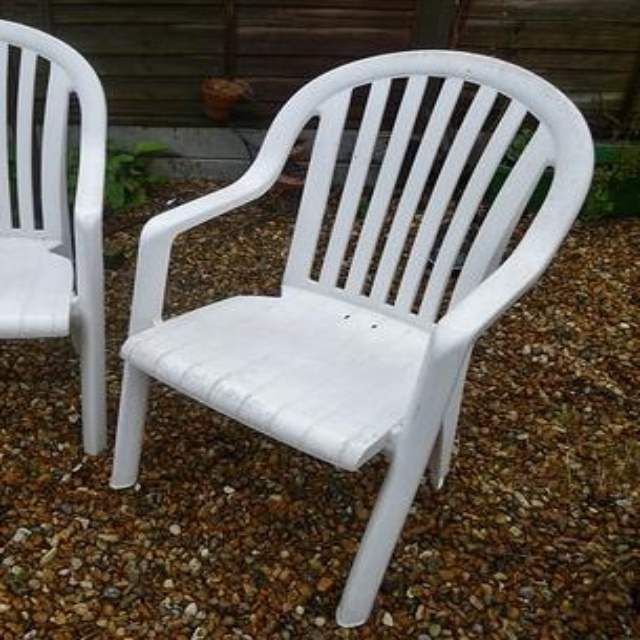obstacle: (111, 50, 592, 626)
